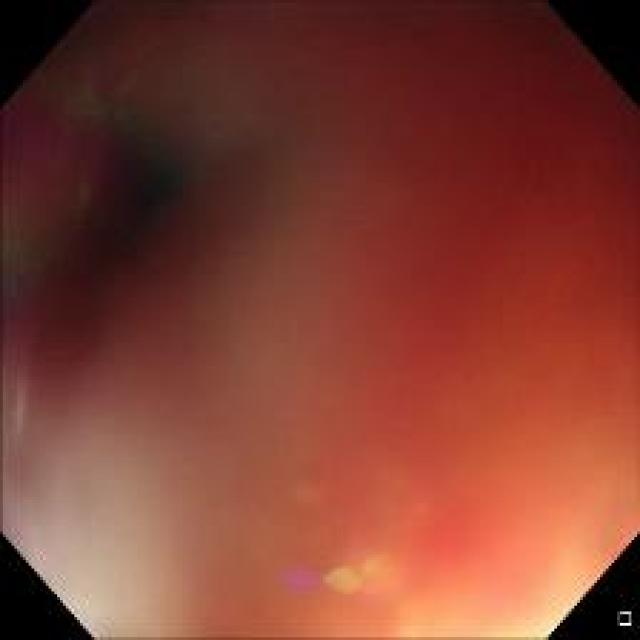blur: (19, 59, 606, 566)
color misalignment: (276, 558, 376, 600)
contrast: (49, 89, 212, 341)
saturation: (11, 504, 134, 630)
